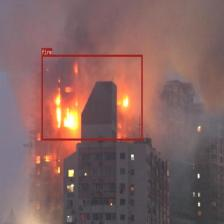fire: (41, 54, 142, 140)
